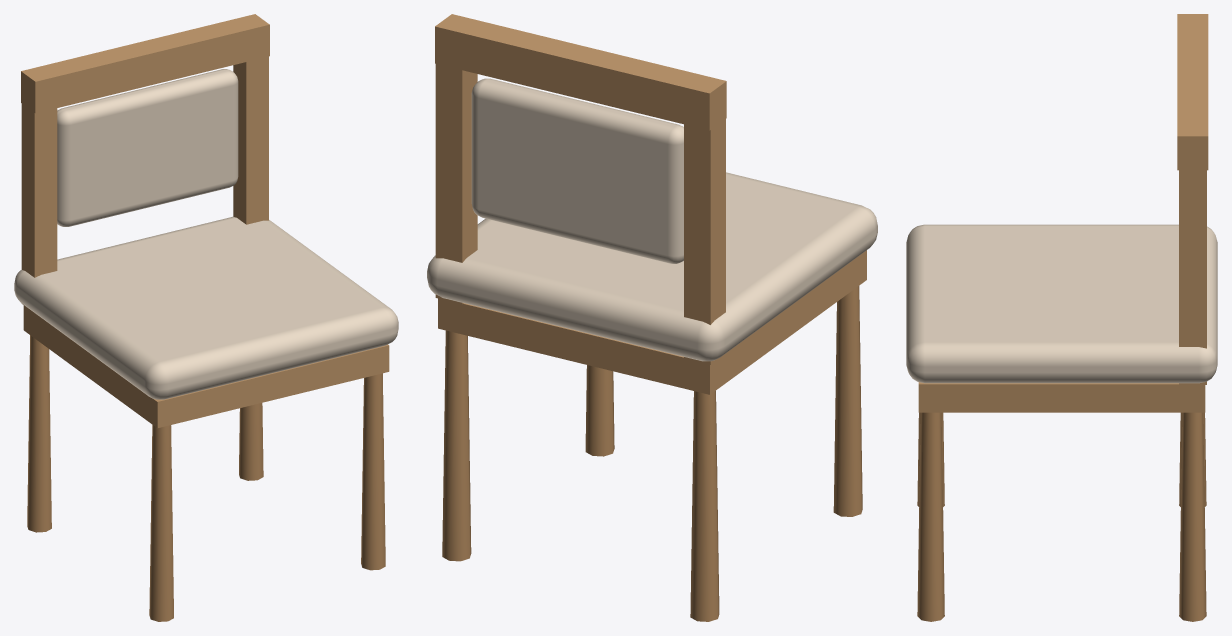
Rendered from chair-lite.glb.
3 views of the same model, side by side, from view 1: azimuth 30°, elevation 25°; view 2: azimuth 150°, elevation 25°; view 3: azimuth 270°, elevation 25° (orthographic). The views are drawn at different scales.
Visible parts, largest first — view 1: material-2-upholstery, material-1-frame, material-0-leg; view 2: material-2-upholstery, material-1-frame, material-0-leg; view 3: material-2-upholstery, material-1-frame, material-0-leg.
Boxes of the visible parts, box(x1,y1,x2,y2) form: material-2-upholstery: box(14, 69, 398, 399); material-1-frame: box(21, 14, 389, 428); material-0-leg: box(27, 335, 385, 621); material-2-upholstery: box(427, 78, 877, 361); material-1-frame: box(435, 14, 866, 394); material-0-leg: box(442, 286, 862, 621); material-2-upholstery: box(906, 224, 1217, 383); material-1-frame: box(918, 14, 1208, 412); material-0-leg: box(917, 412, 1206, 621).
Size of the model in its own units: 0.5 by 0.86 by 0.5.
